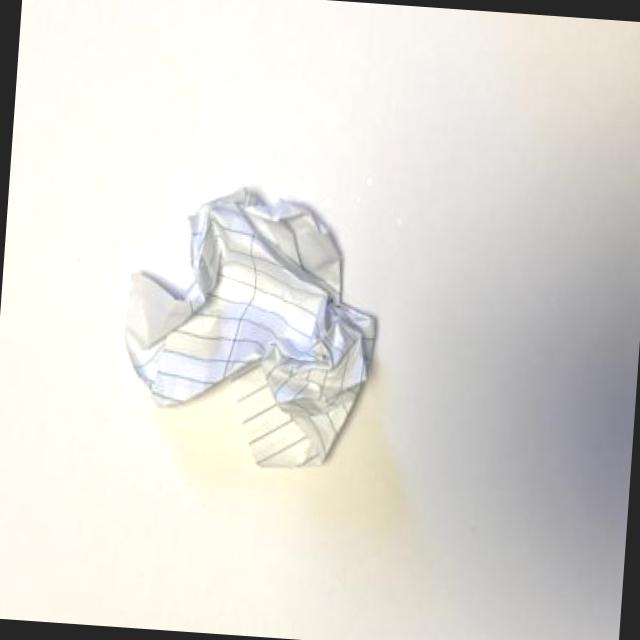giay: (122, 186, 380, 467)
